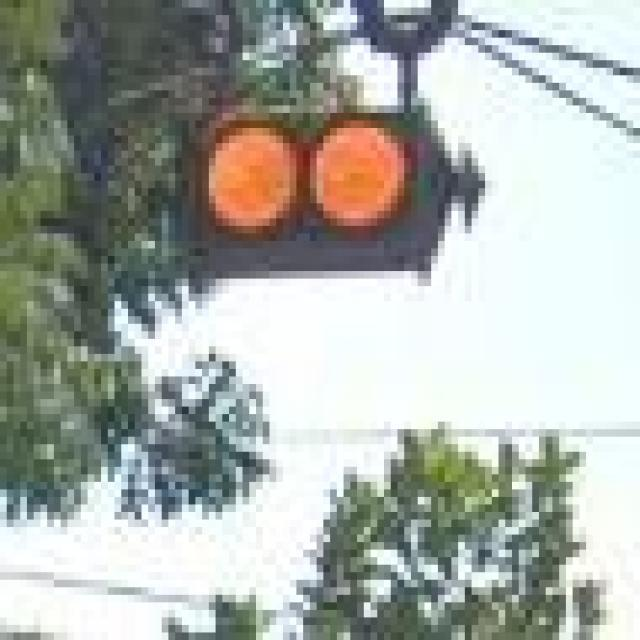yellow_light: (95, 241, 223, 512)
